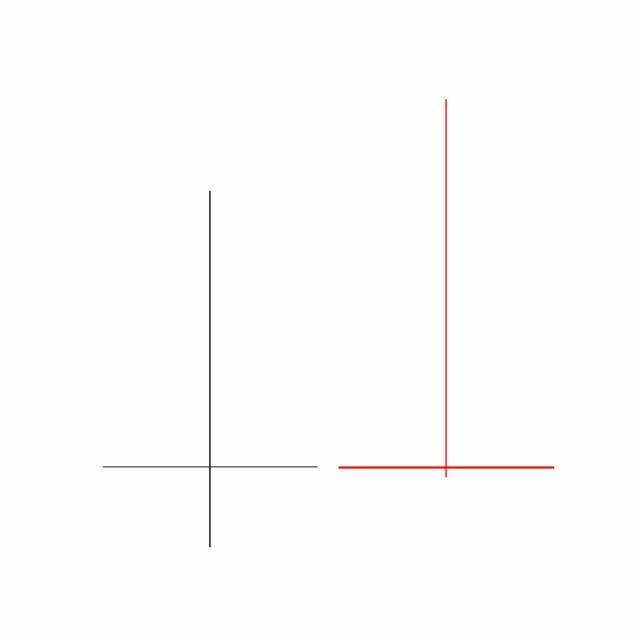Gravestone Doji: (328, 95, 566, 482)
